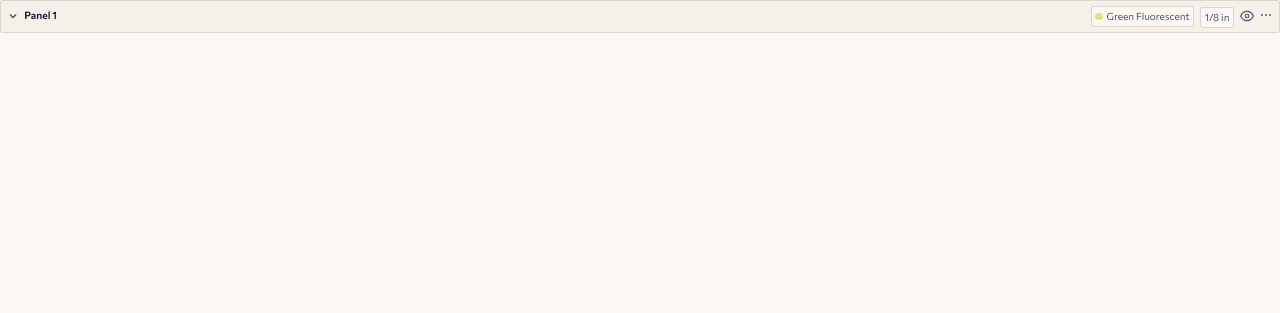
Test: PanelHeader — material chip + popover (auto-collapse) › picking Auto commits { materialId: null } and collapses
The image size is (1280, 313).
Click the button with aria-label "Panel material" at [1142, 16], box [1091,6,1194,27]
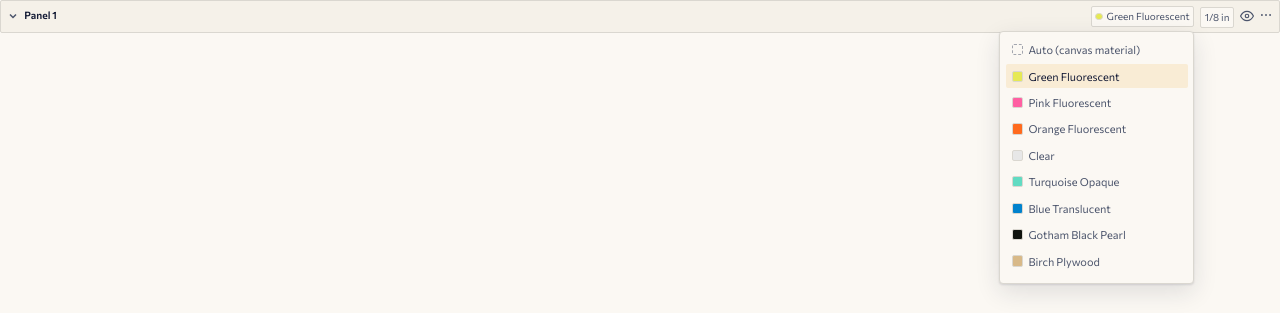
Click the option "Auto (canvas material)" at [1097, 50], box [1006,37,1188,62]
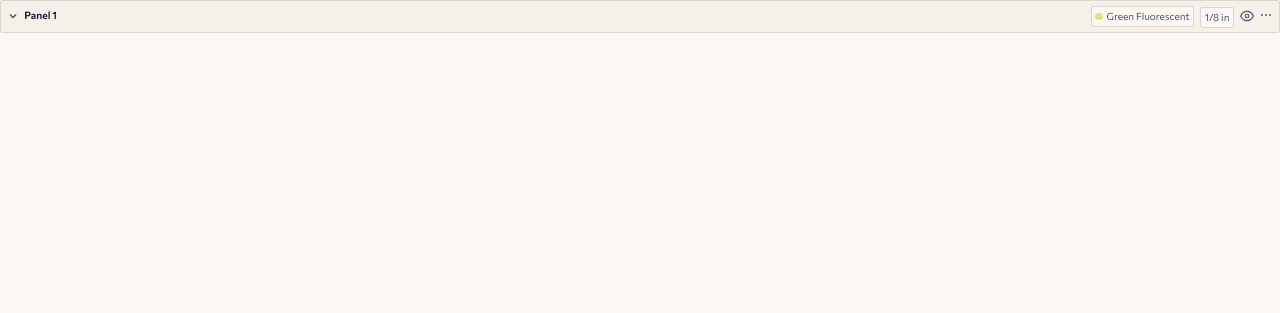
expect the element with test id "panel-material-popover" is gone: met
